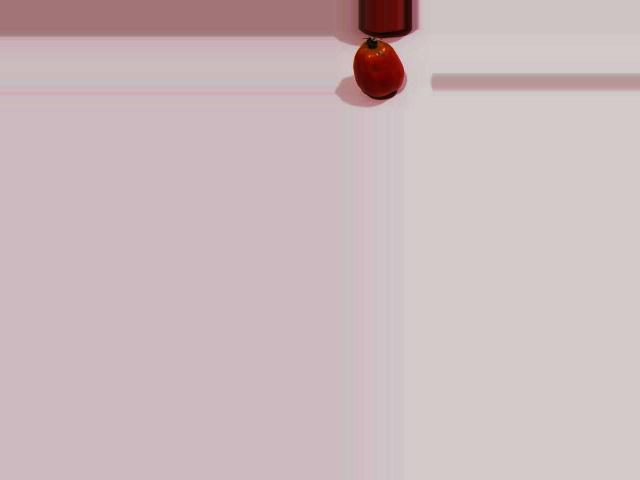tomato: (354, 40, 404, 96)
